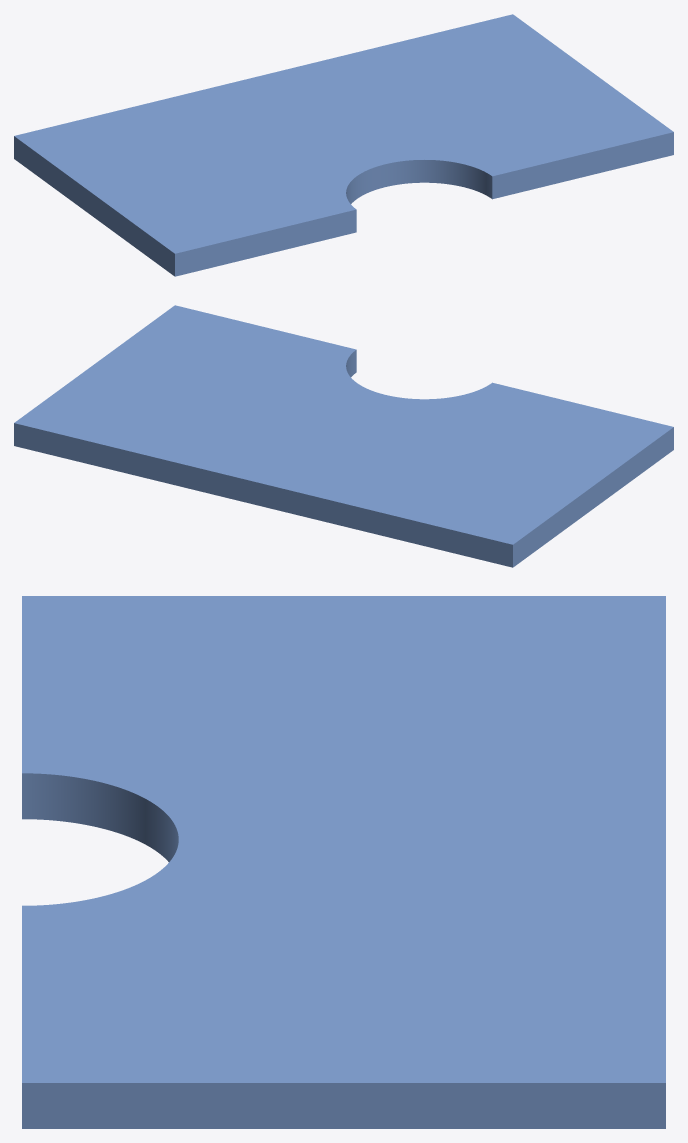
The model's file is Part Studio 1 - Part 3.gltf.
The picture shows the model from 3 angles, top to bottom: view 1: azimuth 30°, elevation 25°; view 2: azimuth 150°, elevation 25°; view 3: azimuth 270°, elevation 25°; orthographic projection. The views are drawn at different scales.
Visible parts, largest first — view 1: Part 3; view 2: Part 3; view 3: Part 3.
Boxes of the visible parts, box(x1,y1,x2,y2) form: Part 3: box(14, 14, 673, 276); Part 3: box(14, 305, 673, 567); Part 3: box(22, 596, 665, 1128).
Size of the model in its own units: 0.2892 by 0.0127 by 0.1616.
